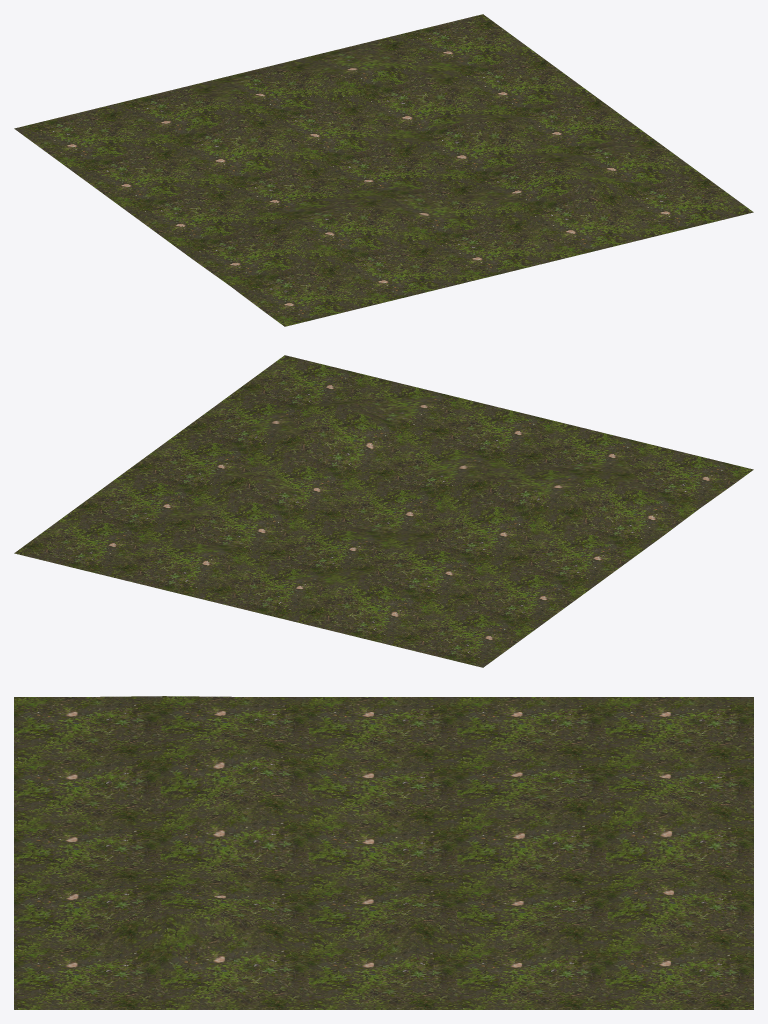
Rendered from chao.obj.
3 renders of one model, top to bottom at view 1: azimuth 30°, elevation 25°; view 2: azimuth 150°, elevation 25°; view 3: azimuth 270°, elevation 25°, orthographic. The views are drawn at different scales.
Visible parts, largest first — view 1: Object_6; view 2: Object_6; view 3: Object_6.
Boxes of the visible parts, <box> form: Object_6: <box>14,14,753,326</box>; Object_6: <box>14,355,753,667</box>; Object_6: <box>14,696,753,1009</box>.
Size of the model in its own units: 54.32 by 2.39 by 54.32.
1 material, 1 textured.
